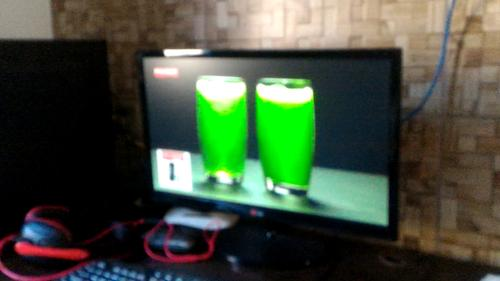Polishop #1: (156, 148, 191, 194)
